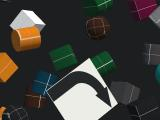Right: (46, 58, 118, 120)
